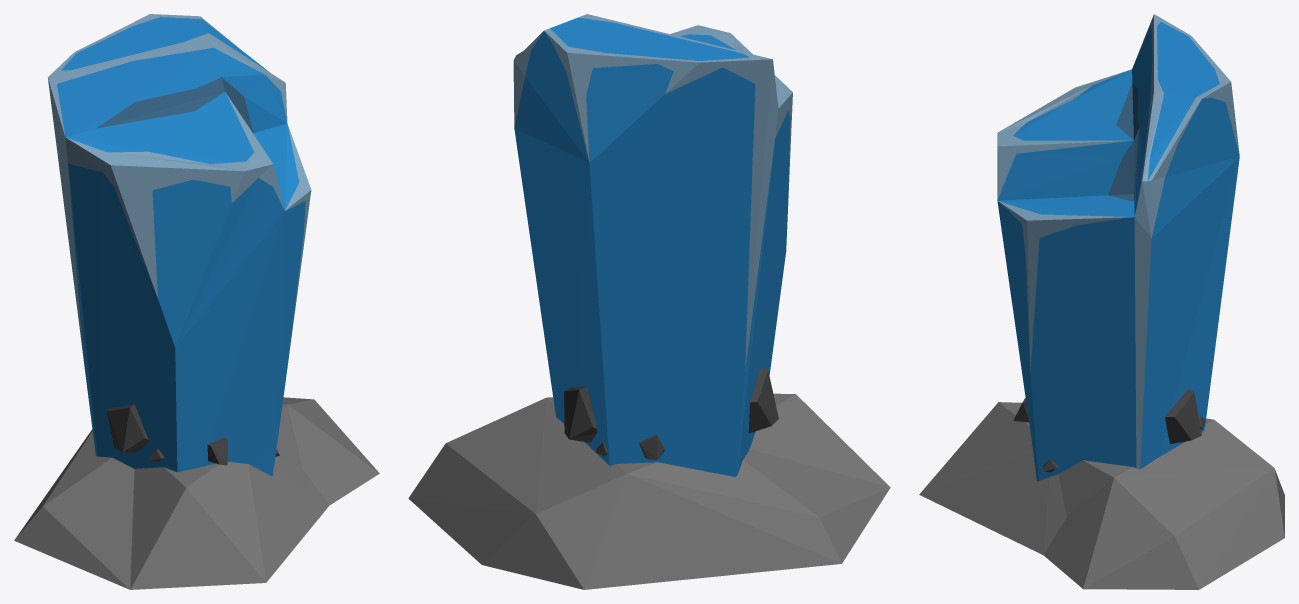
File: Stone_Blue_A_04.FBX
The picture shows the model from 3 angles, left to right: view 1: azimuth 30°, elevation 25°; view 2: azimuth 150°, elevation 25°; view 3: azimuth 270°, elevation 25°; orthographic projection. The views are drawn at different scales.
Visible parts, largest first — view 1: Stone_Blue_A_04; view 2: Stone_Blue_A_04; view 3: Stone_Blue_A_04.
Boxes of the visible parts, <box> form: Stone_Blue_A_04: <box>14,14,379,589</box>; Stone_Blue_A_04: <box>408,14,890,589</box>; Stone_Blue_A_04: <box>919,14,1284,589</box>.
Bounding box in the file's own units: 1.86 × 2.28 × 1.74.
